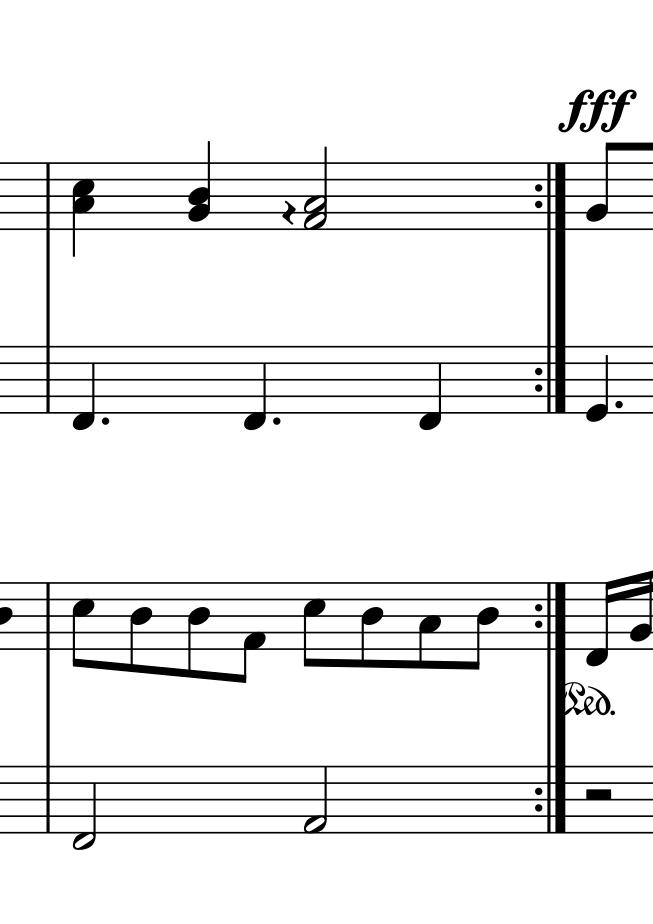16_-1: (584, 579, 616, 670)
16_2: (627, 570, 652, 652)
2_-1: (71, 762, 96, 852)
2_1: (302, 766, 331, 837)
2_1_3: (303, 144, 329, 231)
4_-1: (71, 343, 96, 432), (418, 344, 443, 432)
4_0: (585, 344, 611, 424)
4_2_4: (188, 138, 213, 231)
4_3_5: (71, 161, 96, 258)
8_-1: (241, 344, 268, 432)
8_1: (239, 580, 266, 687)
8_2: (586, 141, 617, 230)
8_3: (416, 581, 443, 672)
8_4: (467, 583, 499, 672), (186, 581, 211, 683), (128, 580, 153, 676), (359, 581, 385, 671)
8_5: (70, 580, 95, 670), (301, 580, 326, 670)
Rests2: (581, 787, 615, 805)
RightRepeatSign: (531, 345, 570, 415), (533, 581, 570, 649), (534, 765, 569, 835), (532, 162, 568, 229)
Single_barline: (40, 584, 56, 650), (41, 768, 56, 833), (40, 164, 55, 228), (41, 347, 55, 413)
dot: (613, 397, 625, 410), (270, 415, 283, 427), (99, 415, 111, 427)
fff: (560, 87, 636, 135)
